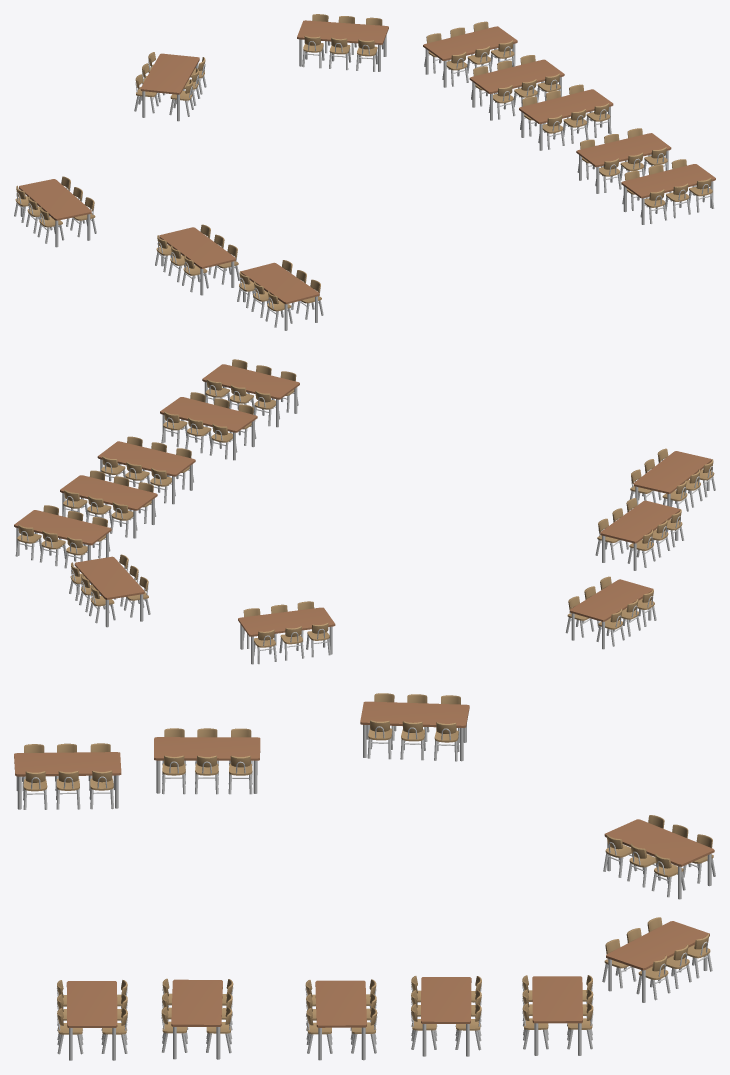
Rendered from d-roomcomp-r6-mensa-in.glb.
The picture shows the model from 3 angles, top to bottom: view 1: azimuth 30°, elevation 25°; view 2: azimuth 150°, elevation 25°; view 3: azimuth 270°, elevation 25°; orthographic projection. The views are drawn at different scales.
Visible parts, largest first — view 1: Tischgruppe 6er.002; view 2: Tischgruppe 6er.002; view 3: Tischgruppe 6er.002.
Part boxes in pixels (box(x1,y1,x2,y2)): Tischgruppe 6er.002: box(14, 14, 715, 330); Tischgruppe 6er.002: box(14, 359, 715, 664); Tischgruppe 6er.002: box(14, 693, 715, 1060).
Size of the model in its own units: 19.92 by 1.25 by 18.15.
3 materials, 3 textured.
